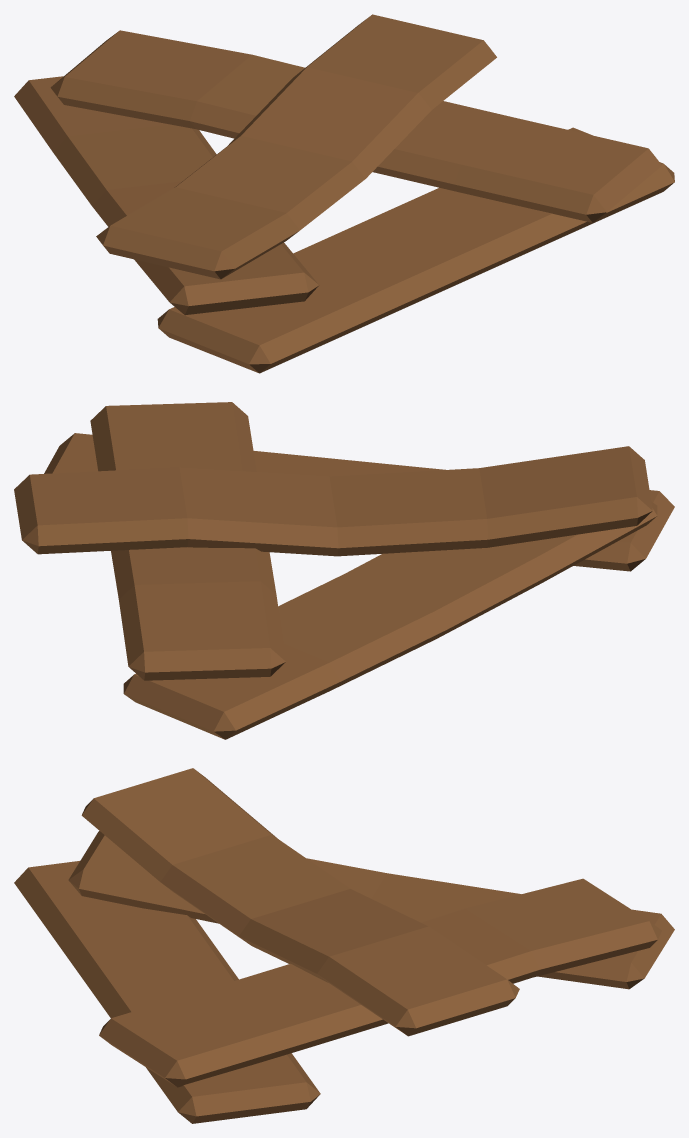
File: Planks(Pickup).fbx
3 renders of one model, top to bottom at view 1: azimuth 30°, elevation 25°; view 2: azimuth 150°, elevation 25°; view 3: azimuth 270°, elevation 25°, orthographic. The views are drawn at different scales.
Parts seen in each view (by area): view 1: Boole_1; view 2: Boole_1; view 3: Boole_1.
Boxes of the visible parts, <box> form: Boole_1: <box>14,14,674,373</box>; Boole_1: <box>14,402,674,739</box>; Boole_1: <box>14,768,674,1123</box>.
Size of the model in its own units: 42.91 by 7.15 by 44.28.
